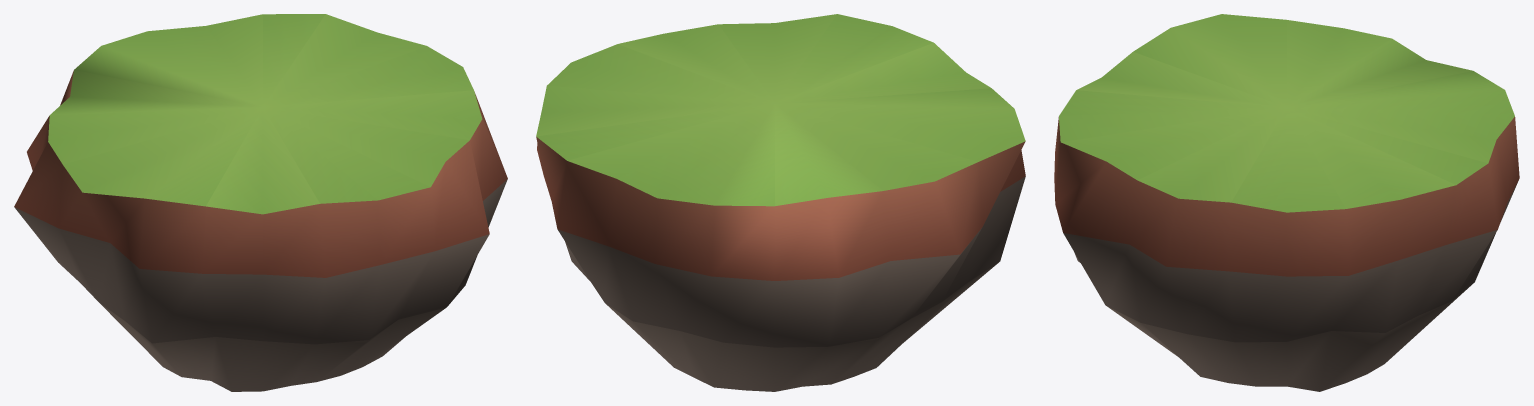
Rendered from islet_a.glb.
3 renders of one model, left to right at view 1: azimuth 30°, elevation 25°; view 2: azimuth 150°, elevation 25°; view 3: azimuth 270°, elevation 25°, orthographic. The views are drawn at different scales.
Parts seen in each view (by area): view 1: islet_a; view 2: islet_a; view 3: islet_a.
Part boxes in pixels (x1=…): islet_a: x1=14, y1=14, x2=507, y2=391; islet_a: x1=536, y1=14, x2=1025, y2=391; islet_a: x1=1054, y1=14, x2=1519, y2=391.
Bounding box in the file's own units: 12.58 × 7.75 × 12.24.
Materials: 1 (1 with a texture image).
